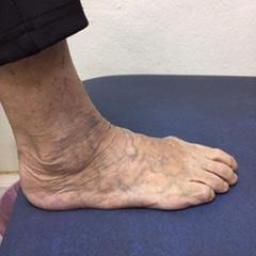Lateral View -Right Foot-: (2, 113, 241, 220)
